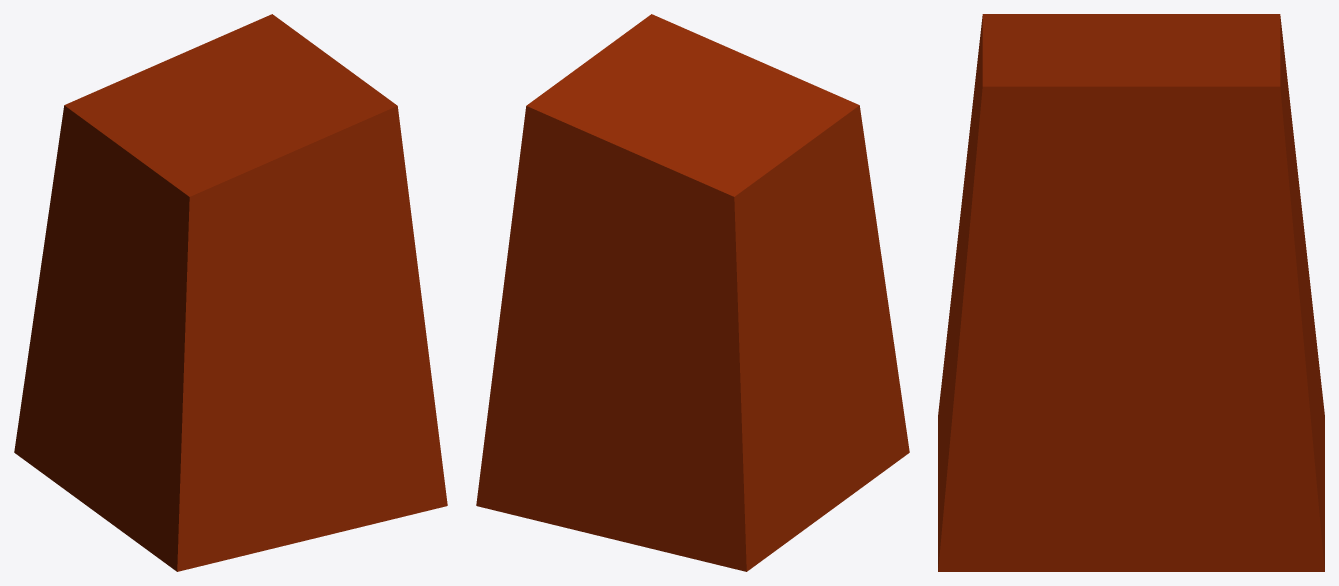
3 renders of one model, left to right at view 1: azimuth 30°, elevation 25°; view 2: azimuth 150°, elevation 25°; view 3: azimuth 270°, elevation 25°, orthographic. The views are drawn at different scales.
Parts seen in each view (by area): view 1: Box001; view 2: Box001; view 3: Box001.
Part boxes in pixels (x1=…): Box001: x1=14, y1=14, x2=447, y2=571; Box001: x1=476, y1=14, x2=909, y2=571; Box001: x1=938, y1=14, x2=1324, y2=571.
Bounding box in the file's own units: 10.85 × 15.1 × 11.32.
